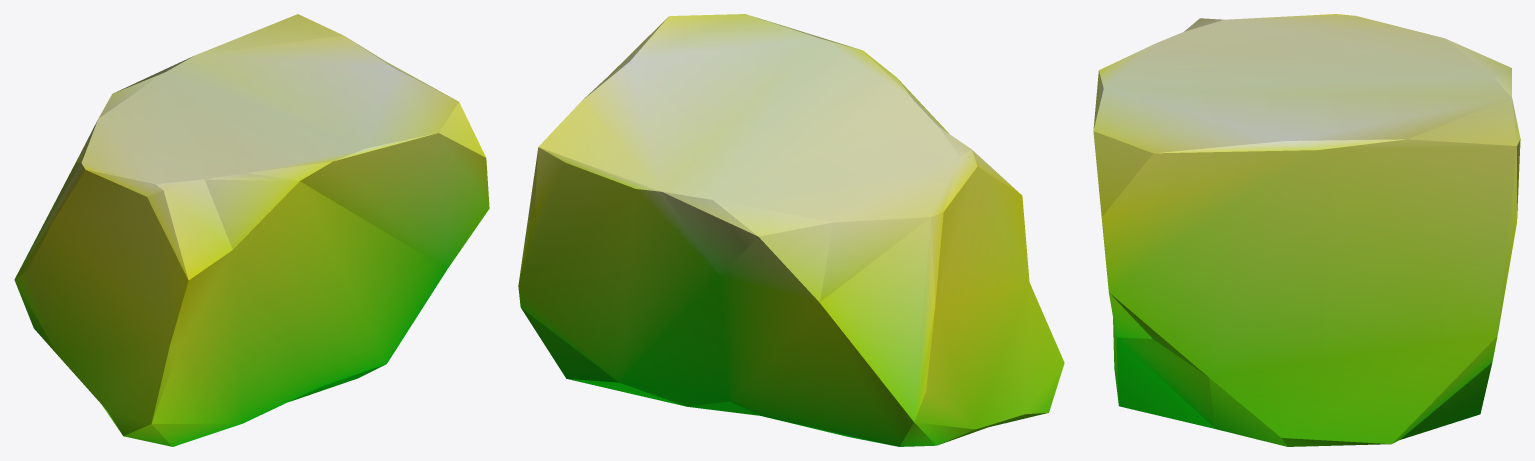
Rendered from rock_solo_01_LOD2.fbx.
The picture shows the model from 3 angles, left to right: view 1: azimuth 30°, elevation 25°; view 2: azimuth 150°, elevation 25°; view 3: azimuth 270°, elevation 25°; orthographic projection. The views are drawn at different scales.
Visible parts, largest first — view 1: LOD2; view 2: LOD2; view 3: LOD2.
Part boxes in pixels (x1=…): LOD2: x1=14, y1=14, x2=489, y2=446; LOD2: x1=518, y1=14, x2=1064, y2=446; LOD2: x1=1093, y1=14, x2=1520, y2=446.
Bounding box in the file's own units: 37729 × 27315 × 30087.
